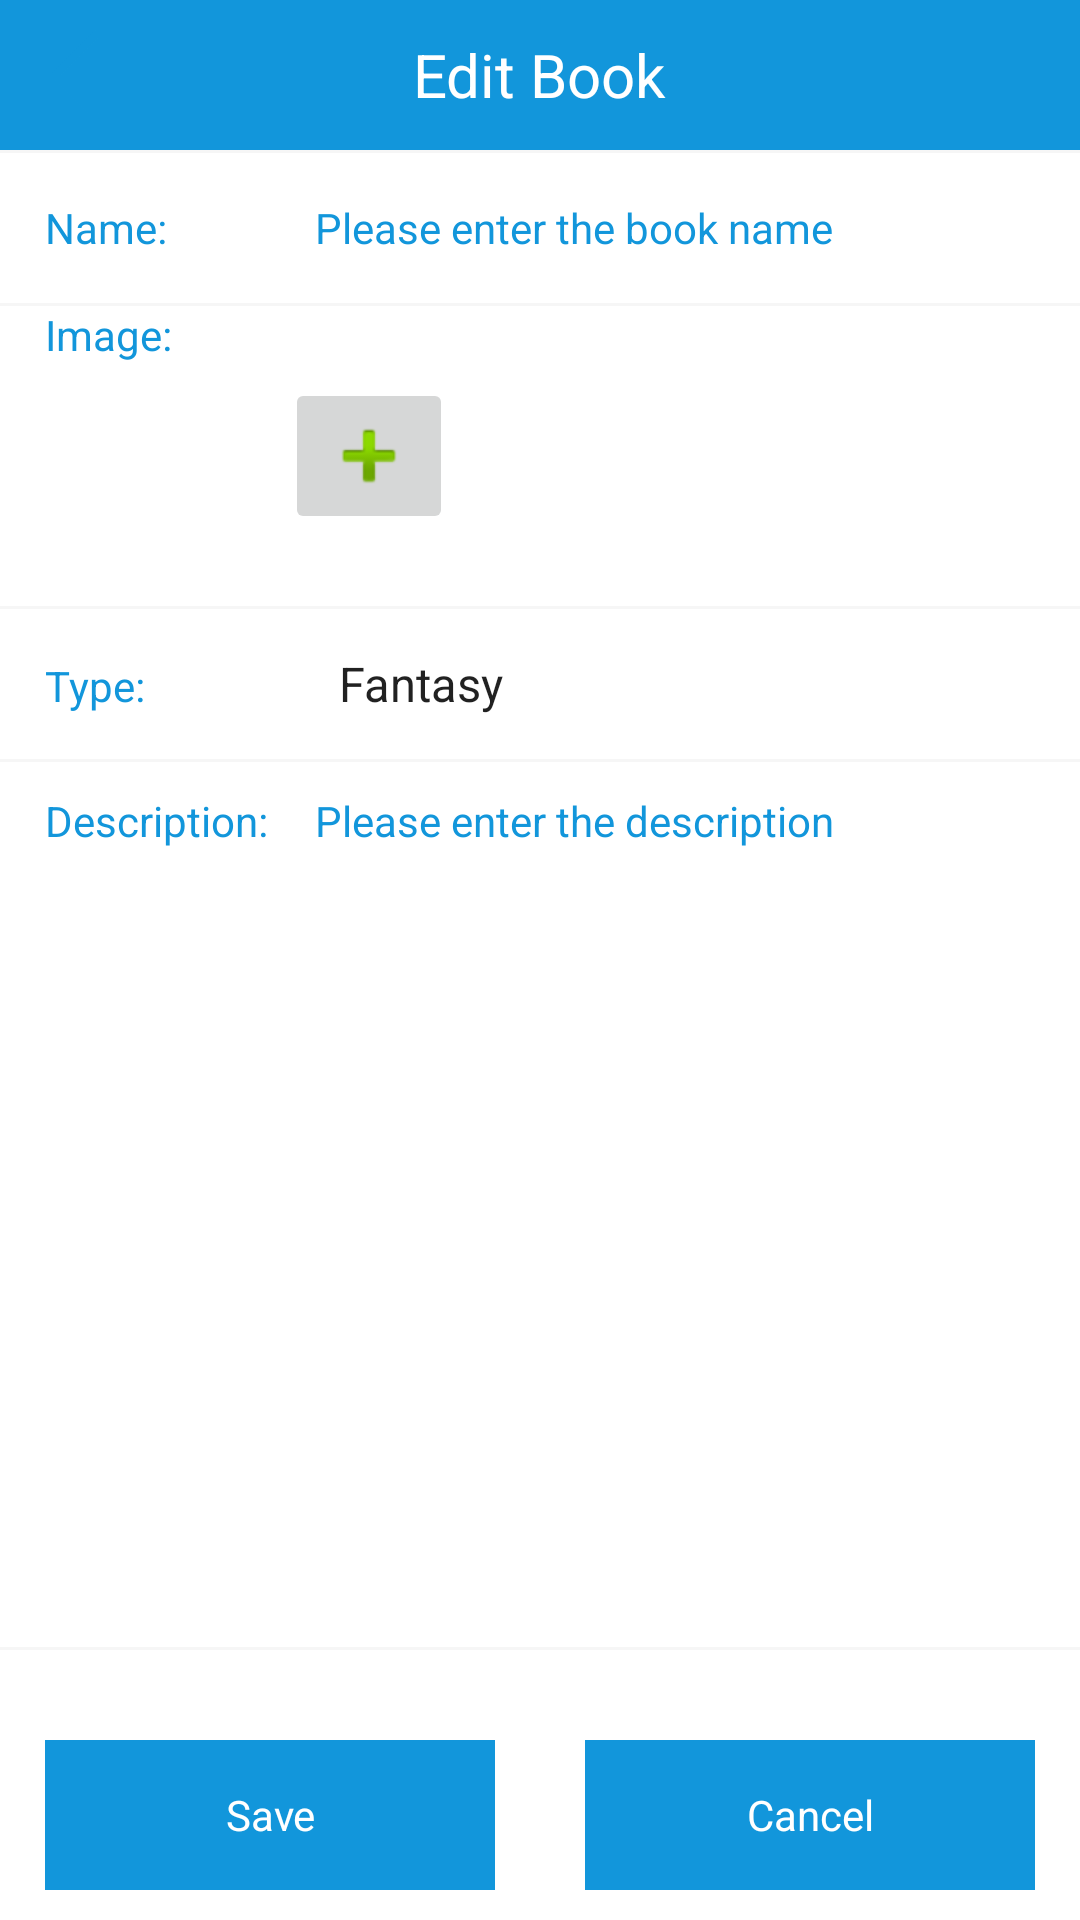

Icons on this 1080w x 1920h Android screen, each with its box as (x1, y1, x2, y2):
add: (297, 396, 441, 516)
